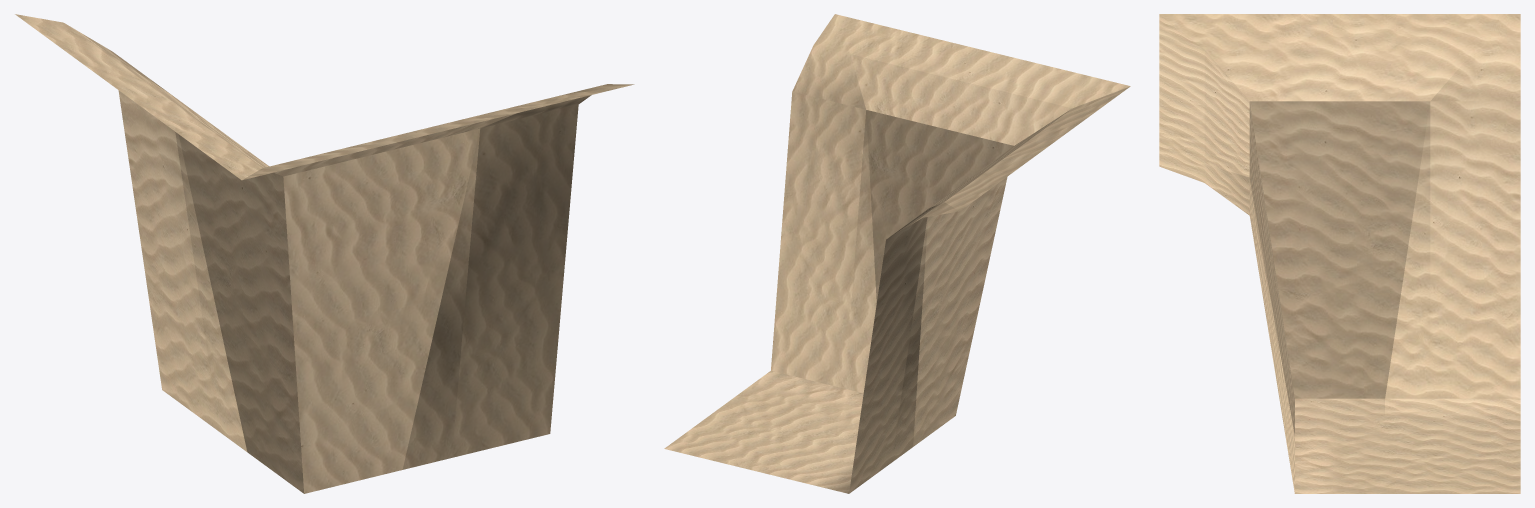
The model's file is Sand2c.obj.
3 views of the same model, side by side, from view 1: azimuth 30°, elevation 25°; view 2: azimuth 150°, elevation 25°; view 3: azimuth 270°, elevation 25° (orthographic). The views are drawn at different scales.
Parts seen in each view (by area): view 1: Grid_Grid.002; view 2: Grid_Grid.002; view 3: Grid_Grid.002.
Part boxes in pixels (x1,y1,x2,y2): Grid_Grid.002: [15, 14, 634, 493]; Grid_Grid.002: [664, 14, 1130, 493]; Grid_Grid.002: [1159, 14, 1520, 493].
Bounding box in the file's own units: 1 × 1 × 1.
